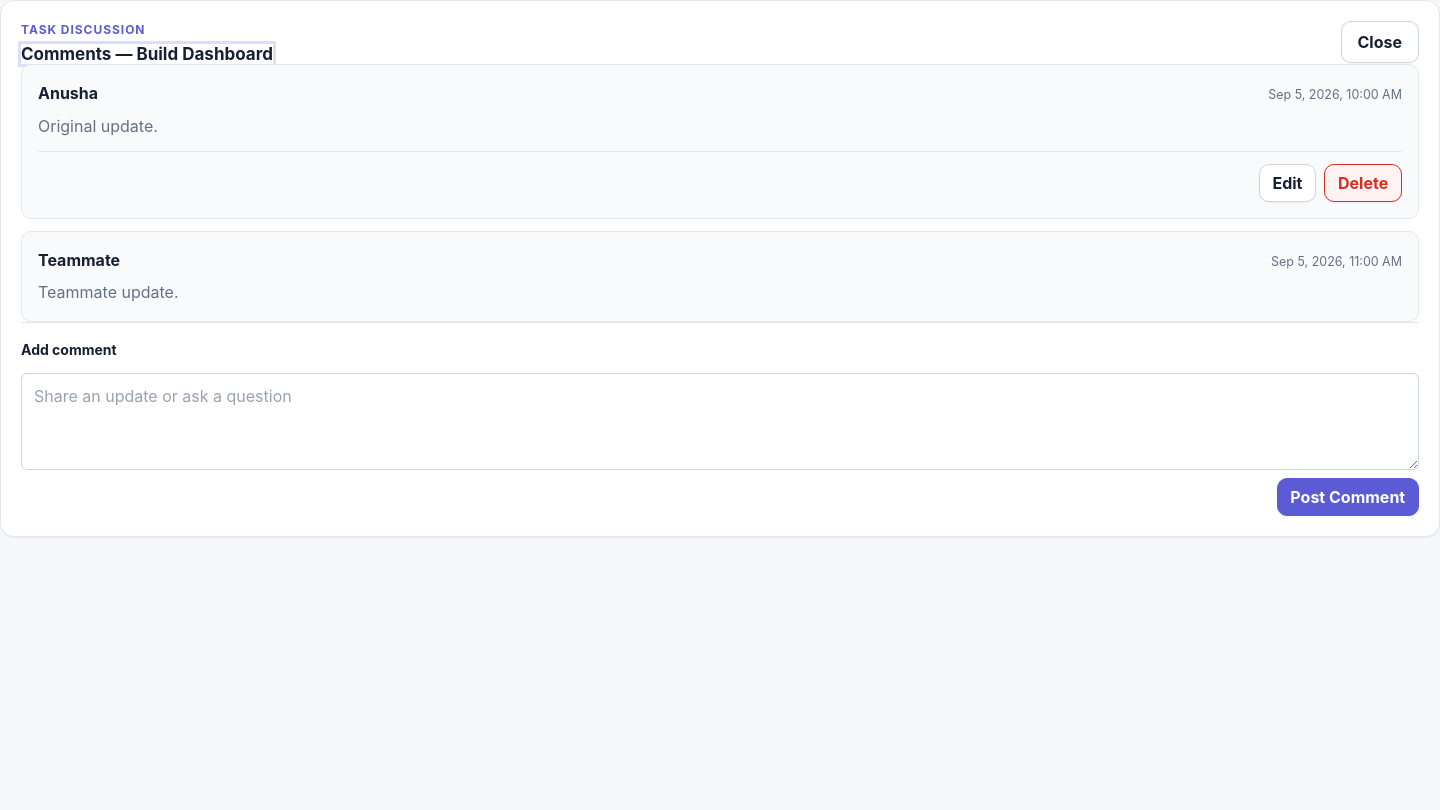
Test: task comment mutation permissions and behavior › keeps edit mode and its draft when PATCH fails
Expected: the text "Original update." is shown, x1=38 y1=116 x2=158 y2=136
Click the button with aria-label "Edit comment by Anusha": (1287,183) x1=1259 y1=164 x2=1316 y2=202
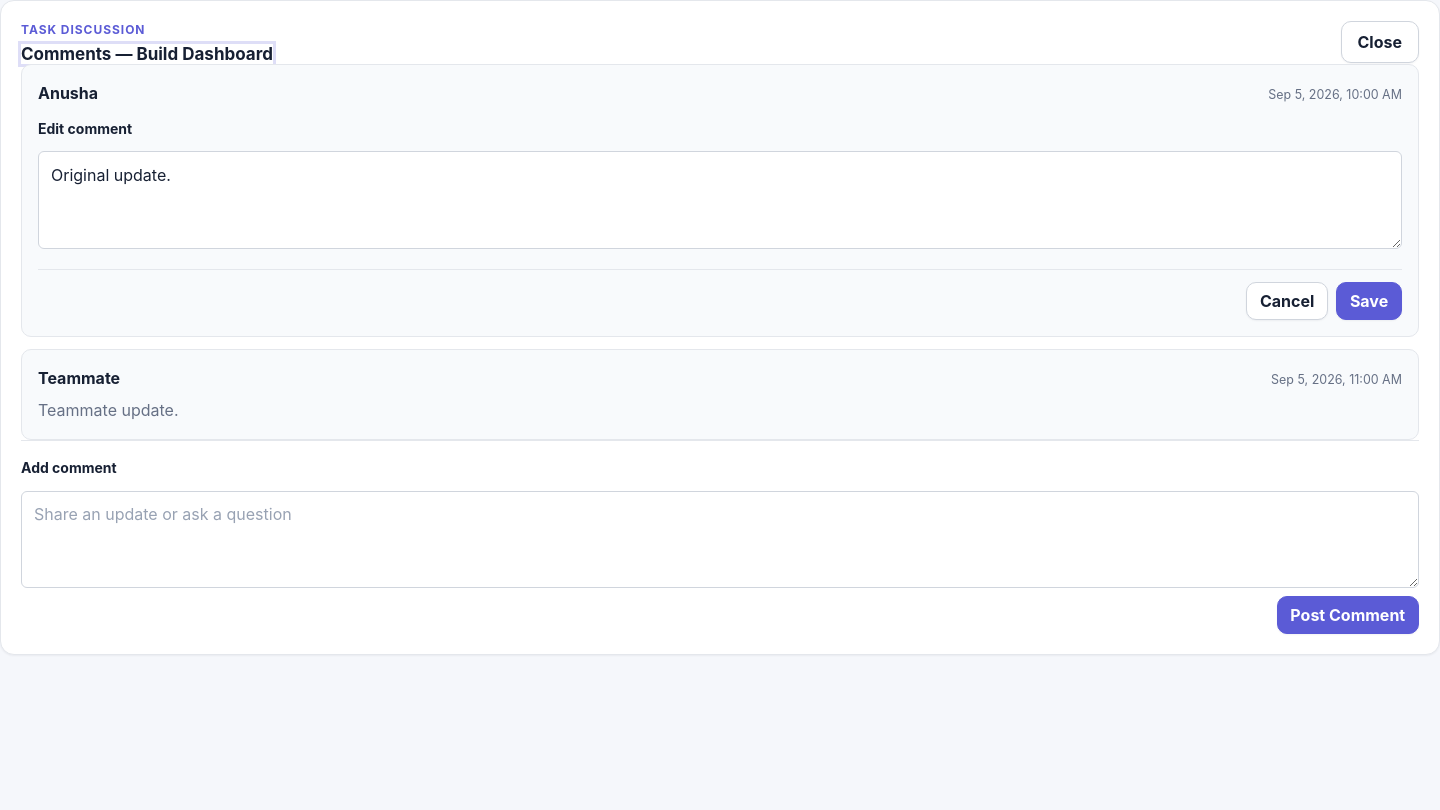
Replace the text in the text box labelled "Edit comment" with "Preserve this draft": (720,200) x1=38 y1=152 x2=1402 y2=249
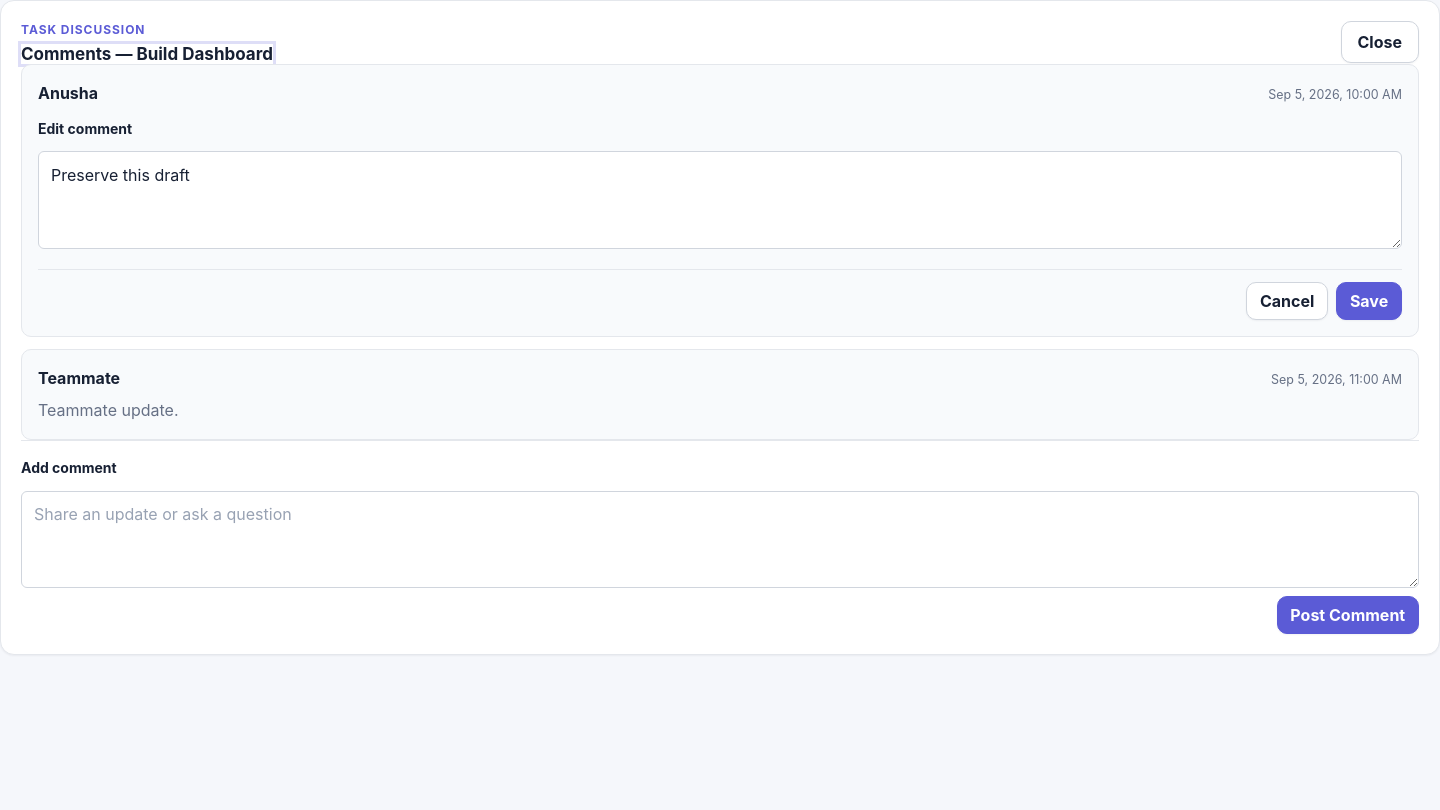
Click the button "Save": (1369,301) x1=1336 y1=282 x2=1402 y2=320
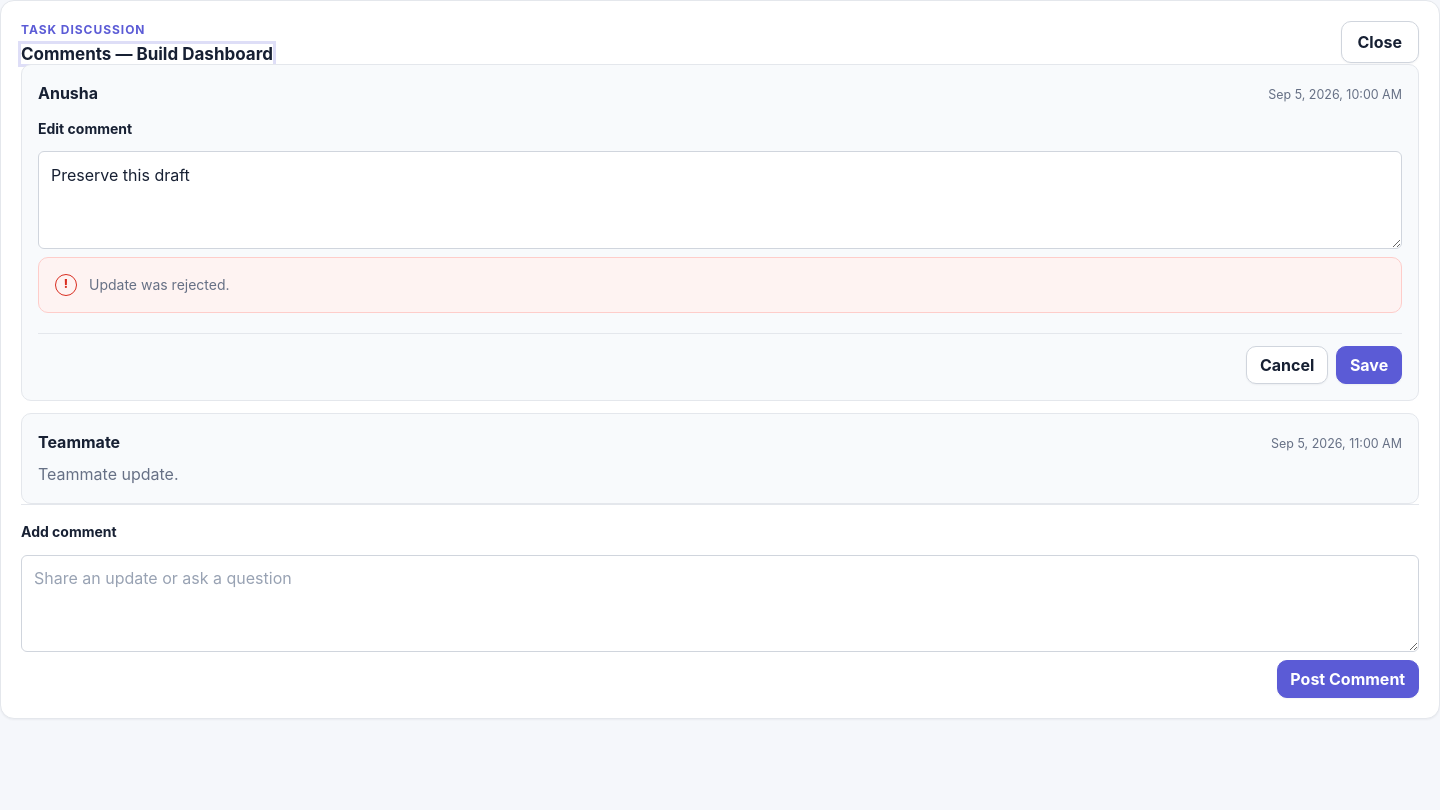
Expected: the text "Teammate update." is shown, x1=38 y1=464 x2=178 y2=484
Result: the message shows "Update was rejected." at x1=89 y1=276 x2=230 y2=293
